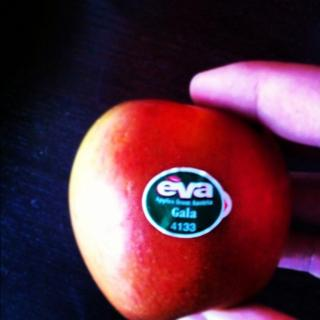Apple: (68, 96, 291, 320)
Peach: (67, 98, 292, 318)
